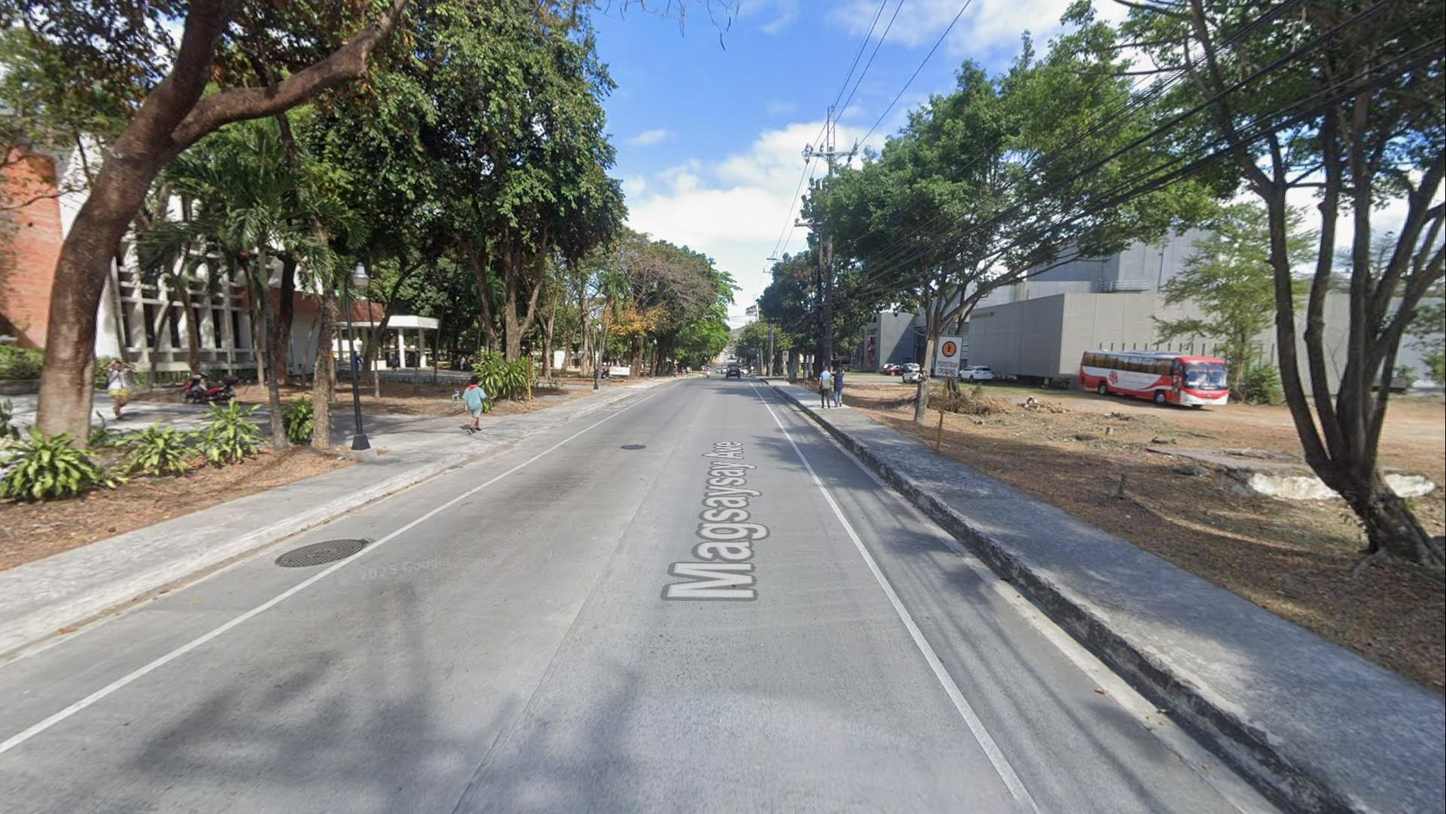pedestrian: (462, 375, 490, 435), (818, 365, 833, 409), (832, 366, 846, 408), (680, 365, 686, 378), (685, 365, 691, 377)
